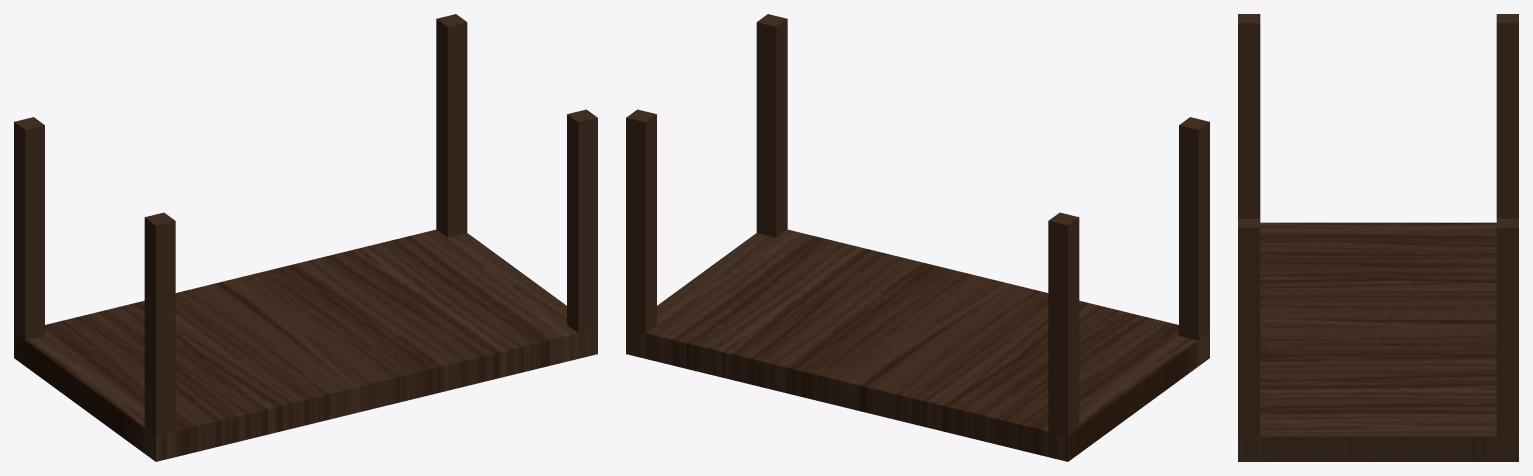
3 views of the same model, side by side, from view 1: azimuth 30°, elevation 25°; view 2: azimuth 150°, elevation 25°; view 3: azimuth 270°, elevation 25° (orthographic).
Visible parts, largest first — view 1: box_4_2_2; view 2: box_4_2_2; view 3: box_4_2_2.
Part boxes in pixels (<box>): box_4_2_2: <box>14,14,597,461</box>; box_4_2_2: <box>626,14,1209,461</box>; box_4_2_2: <box>1238,14,1518,461</box>.
Bounding box in the file's own units: 0.18 × 0.092 × 0.1.
2 materials, 1 textured.
